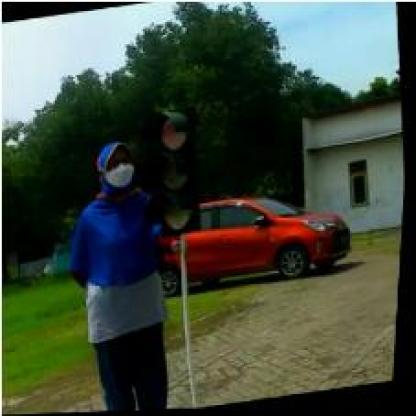red: (135, 103, 210, 238)
